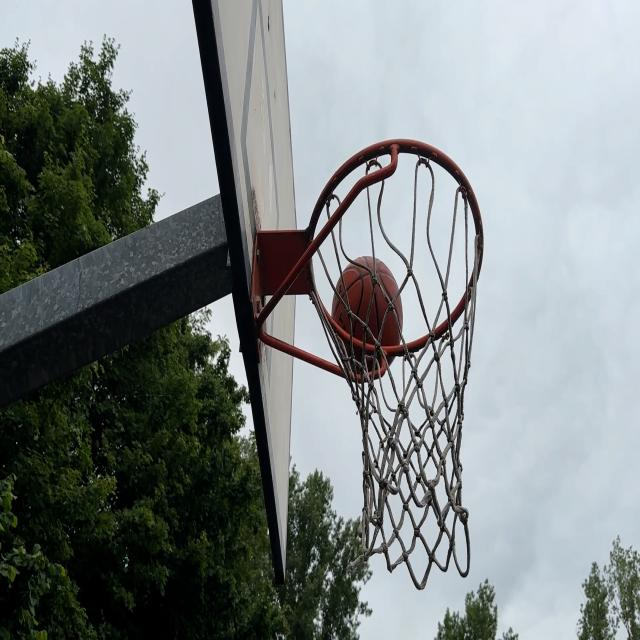rebound_hit: (328, 250, 404, 382)
